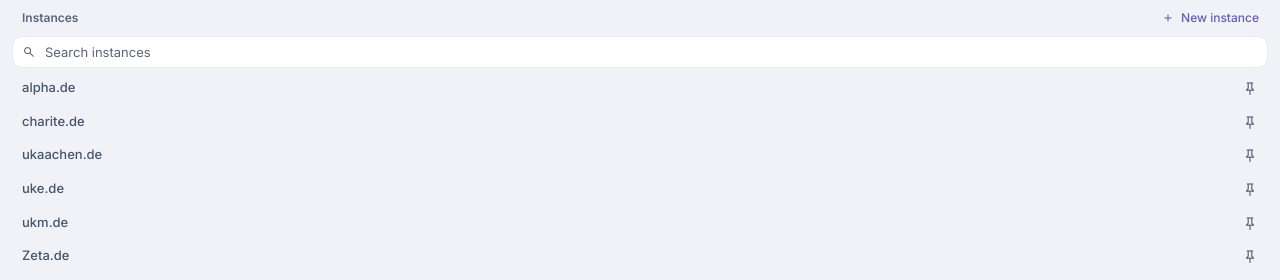
Test case: InstanceSwitcher › shows a no-matches line when nothing matches
This screenshot has width=1280, height=280.
In the search field: (640, 52) left=12, top=36, right=1268, bottom=68, type "zzz"
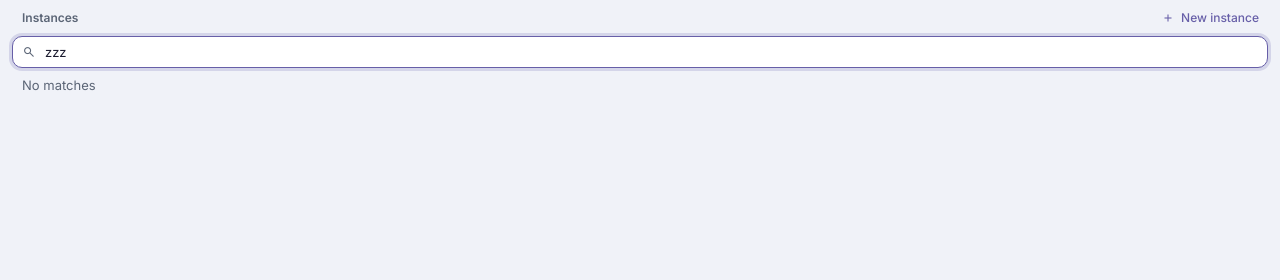
Now the text "No matches" is shown, box left=22, top=77, right=96, bottom=93
Now no list items are shown
